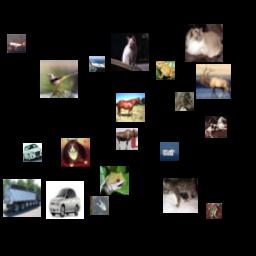airplane: (7, 34, 26, 53), (89, 56, 105, 72)
automobile: (46, 181, 84, 219), (23, 143, 42, 162)
bird: (40, 60, 78, 98), (175, 92, 194, 111)
cat: (111, 33, 149, 71), (185, 24, 223, 62), (163, 178, 198, 213), (61, 138, 90, 167)
deer: (196, 64, 231, 99), (116, 128, 138, 150)
frog: (100, 166, 129, 195), (90, 196, 109, 215), (156, 61, 175, 80), (206, 203, 222, 219)
ship: (160, 142, 179, 161)
truck: (3, 179, 41, 217)
